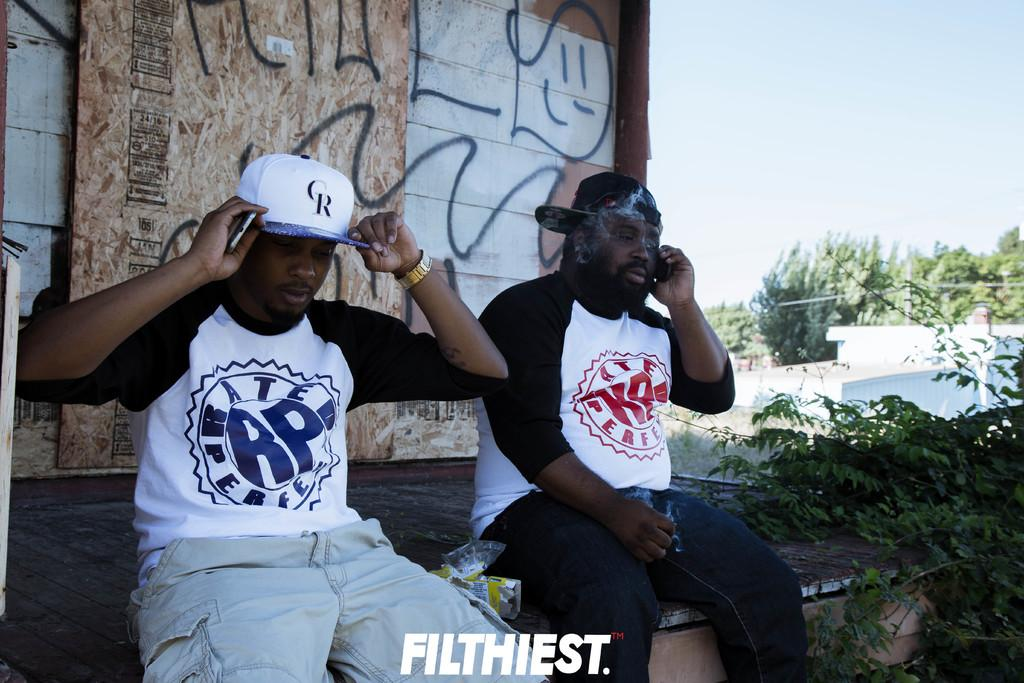Hat: (230, 150, 371, 251), (530, 173, 662, 236)
